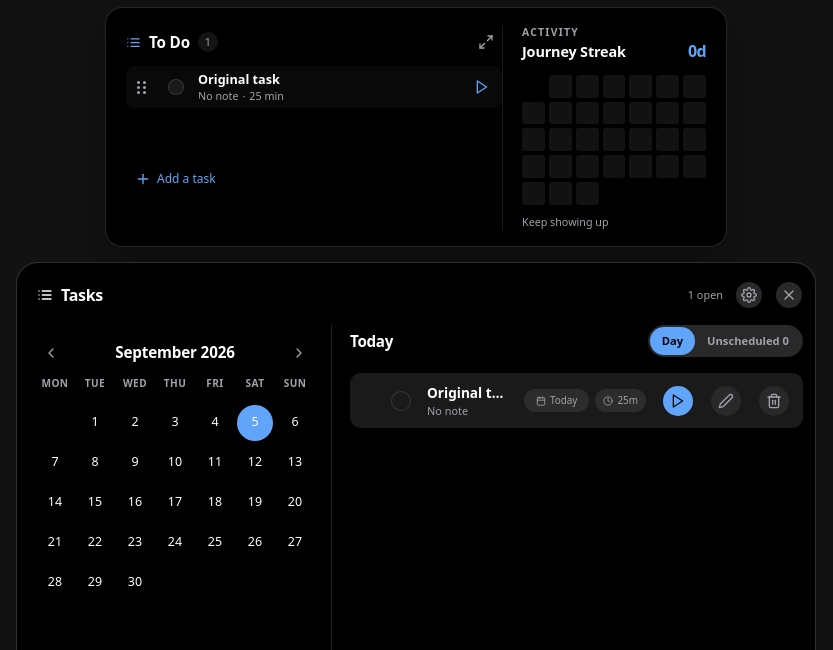
Test: Tasks surface › edits and deletes a task without a completion control
Expected: the heading "Tasks" is shown, top-left (61, 287), bottom-right (103, 303)
Click the button with aria-label "Open details for Original task" at (467, 401), box top-left (427, 385), bottom-right (508, 417)
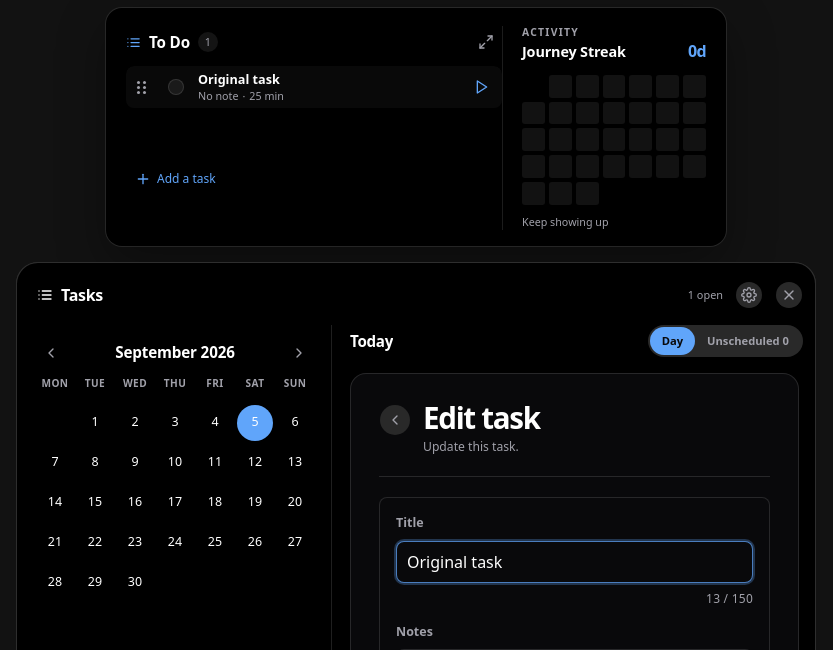
Expected: the heading "Edit task" is shown, top-left (423, 402), bottom-right (540, 434)
Replace the text in the field labelled "Title" with "Updated task" at (574, 562), box top-left (396, 541), bottom-right (753, 583)
(page scrolled)
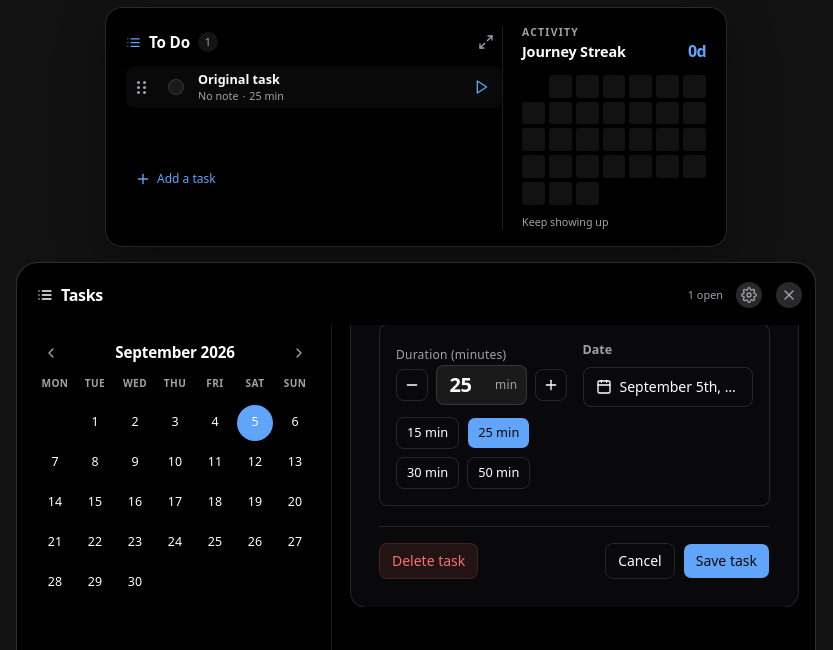
Click the button "Save task" at (726, 561), box top-left (683, 543), bottom-right (770, 579)
(page scrolled)
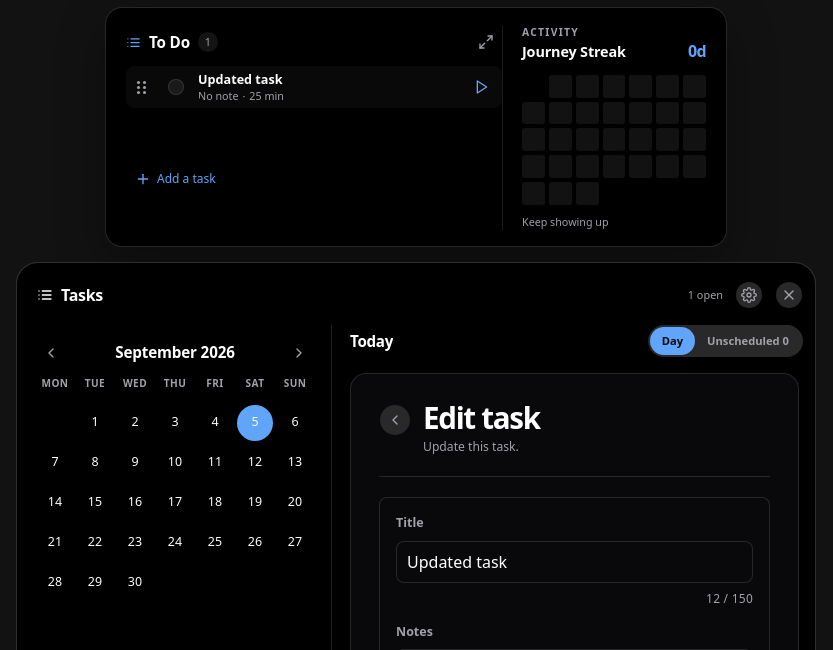
Click the button named "Back to list" at (395, 420), box top-left (379, 404), bottom-right (411, 436)
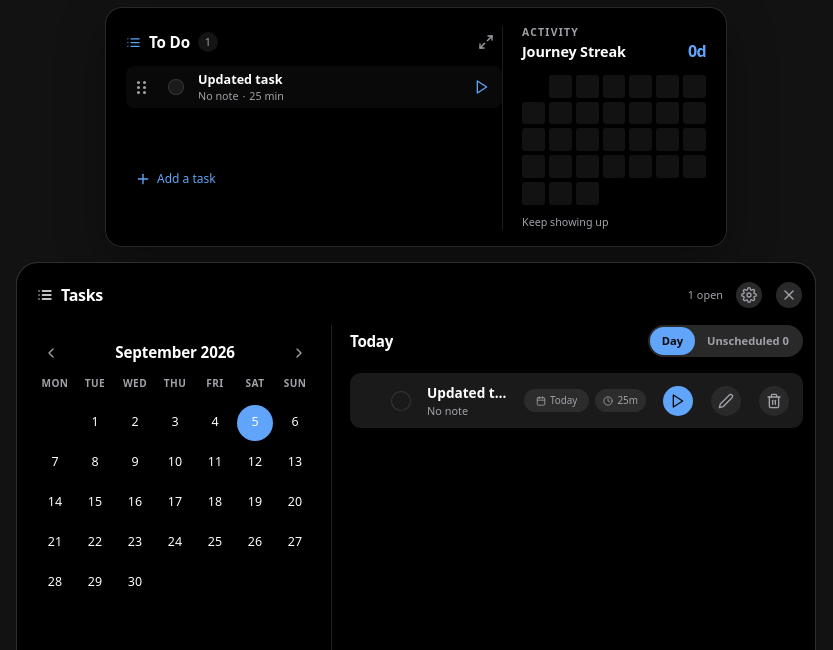
Expected: the 2nd text "Updated task" is shown, top-left (427, 385), bottom-right (508, 402)
Expected: the checkbox named "Mark Updated task as complete" below "Wed" is not checked, top-left (391, 391), bottom-right (411, 411)
Click the button with aria-label "Open details for Updated task" at (467, 401), box top-left (427, 385), bottom-right (508, 417)
(page scrolled)
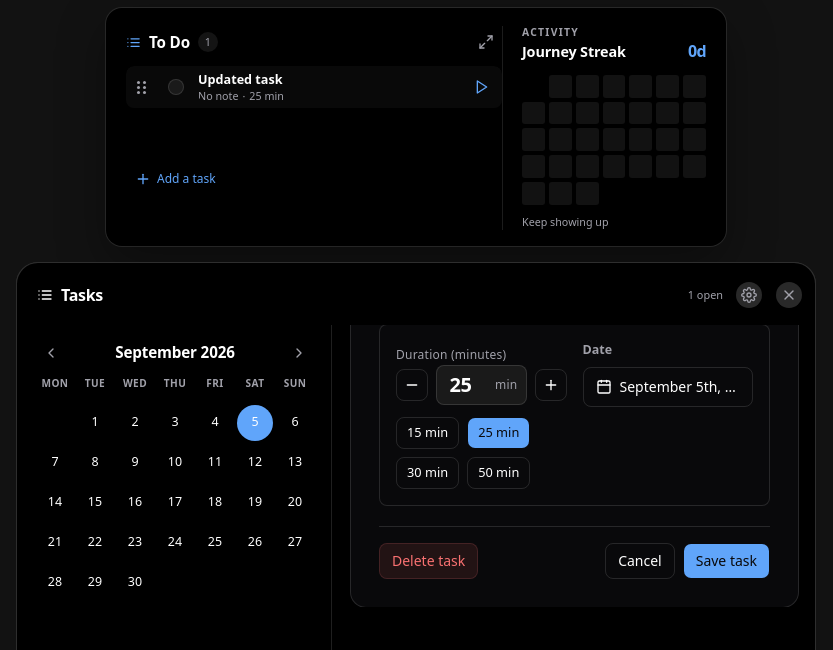
Click the button "Delete task" at (429, 561), box top-left (379, 543), bottom-right (478, 579)
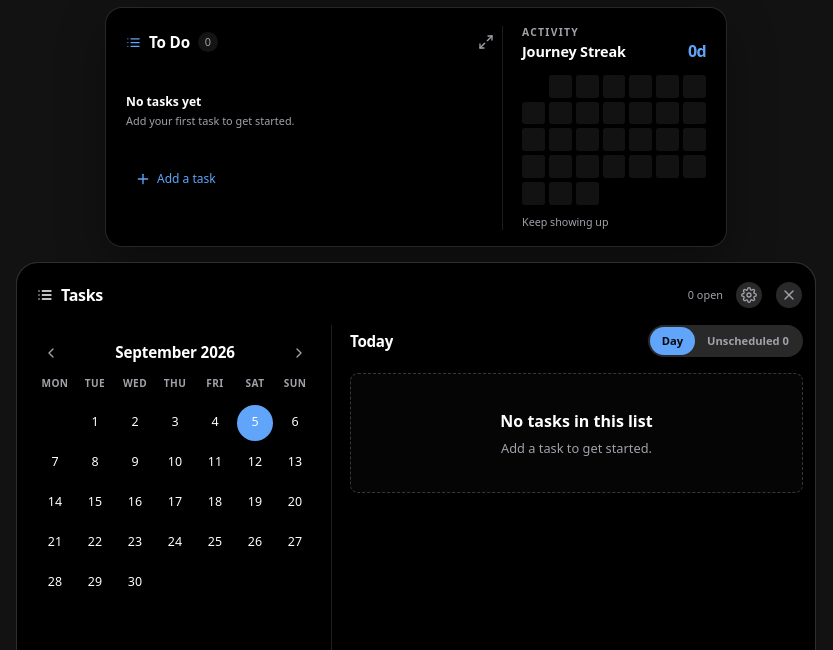
Expected: the button with aria-label "Add your first task" is shown, top-left (350, 373), bottom-right (803, 493)
